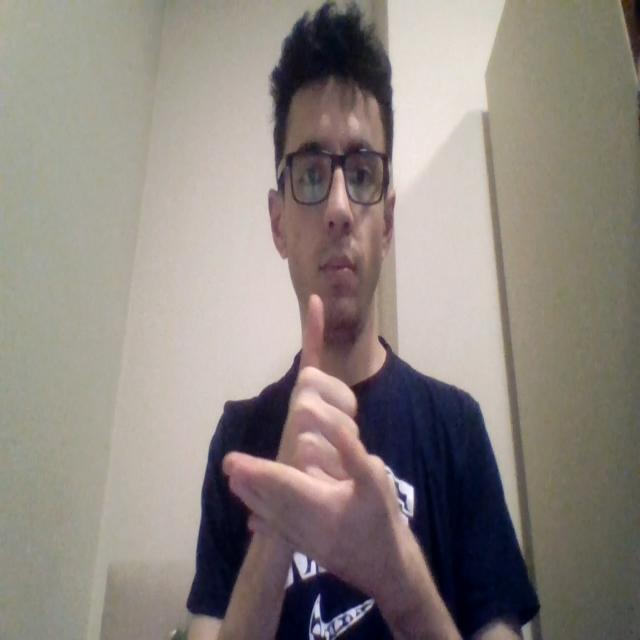help: (222, 292, 400, 570)
